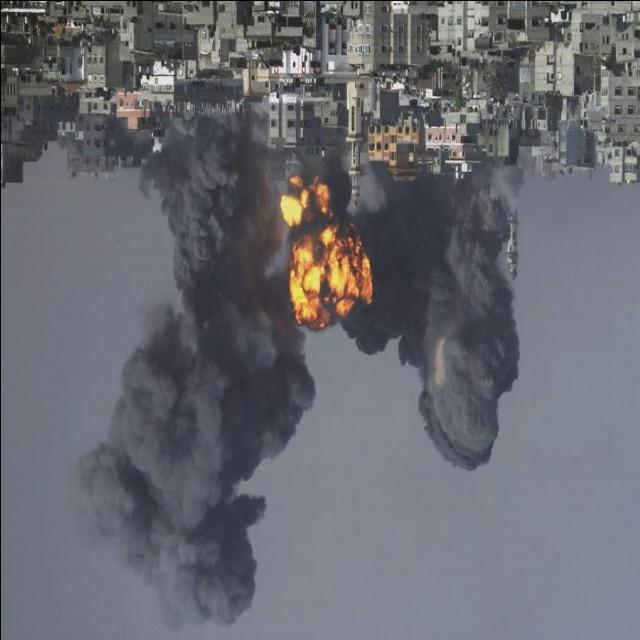Fire: (276, 166, 377, 334)
